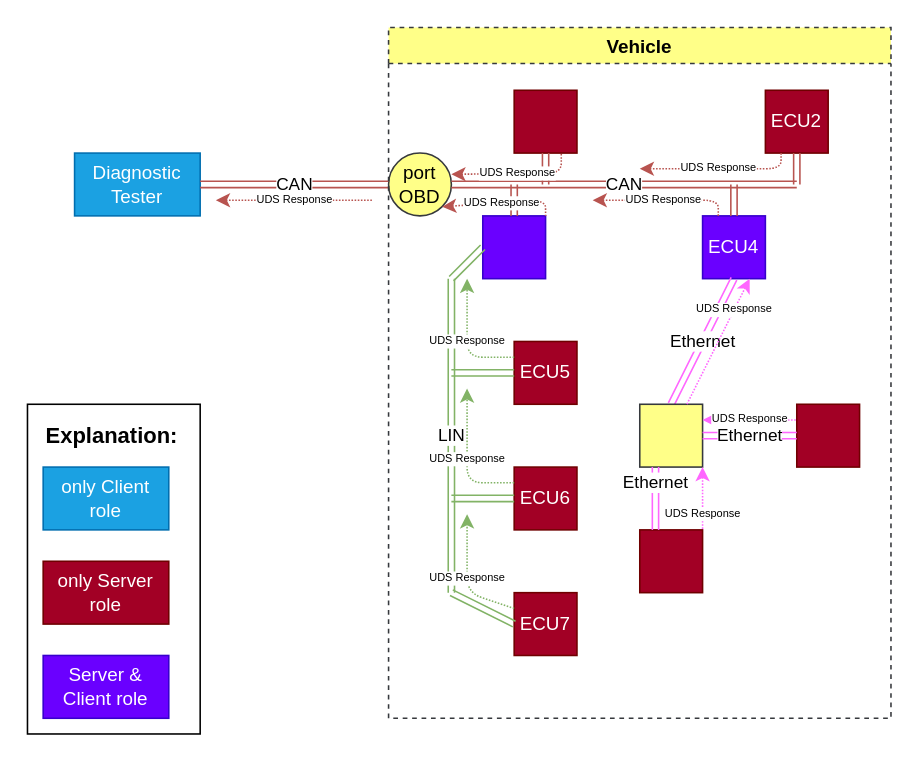
Some shapes in this 918 by 761 pixel diagram are drawn without their labels. The shapes that lost their labels are listed below. From the top down, each one's centre as x and y in pixels, then its label:
the point at 545,121: ECU1
the point at 513,246: ECU3
the point at 670,435: Switch
the point at 827,435: ECU8
the point at 670,560: ECU9
